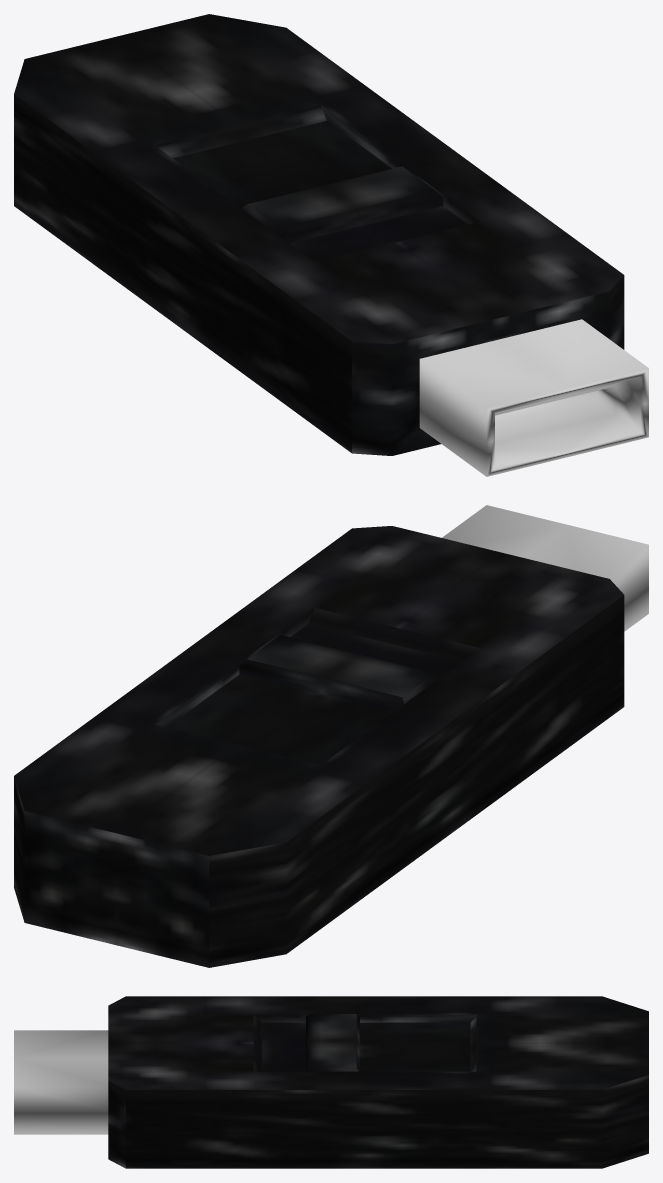
File: USB.fbx
The picture shows the model from 3 angles, top to bottom: view 1: azimuth 30°, elevation 25°; view 2: azimuth 150°, elevation 25°; view 3: azimuth 270°, elevation 25°; orthographic projection. The views are drawn at different scales.
Parts seen in each view (by area): view 1: Cube; view 2: Cube; view 3: Cube.
Part boxes in pixels (box(x1,y1,x2,y2)): Cube: box(14, 14, 648, 476); Cube: box(14, 505, 648, 967); Cube: box(14, 996, 648, 1168).
Bounding box in the file's own units: 128 × 51.67 × 367.
